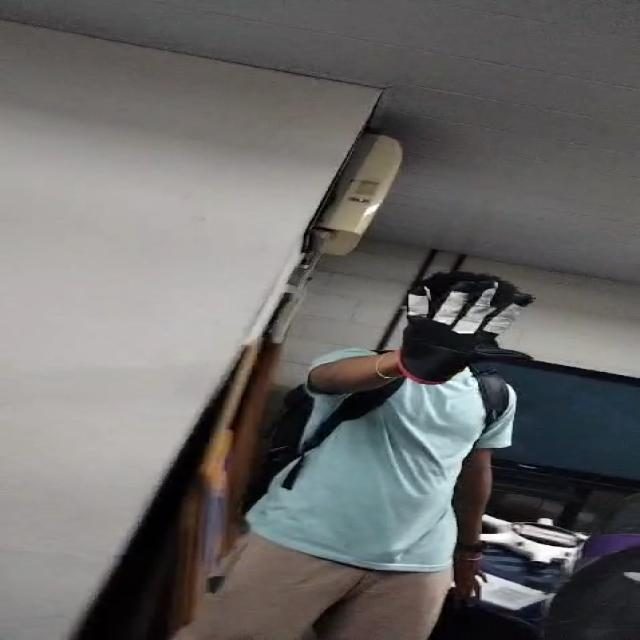Gloves: (388, 275, 529, 388)
